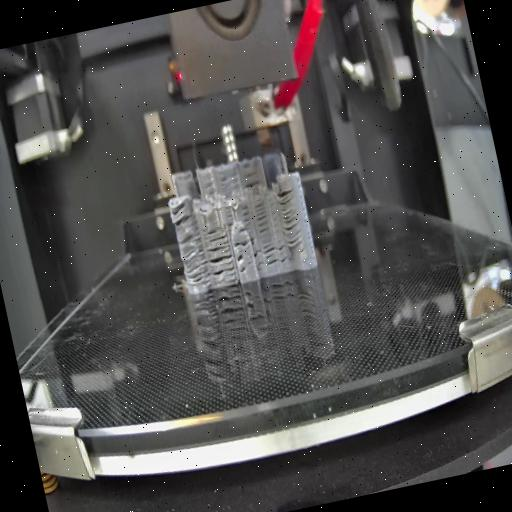cracks: (177, 230, 211, 286), (276, 188, 304, 249), (207, 246, 237, 282), (168, 201, 194, 226), (252, 201, 270, 233), (262, 242, 280, 266), (243, 169, 261, 188), (206, 228, 228, 243), (222, 205, 235, 228), (232, 236, 256, 248), (276, 243, 288, 265), (240, 205, 252, 226), (234, 252, 246, 272), (254, 250, 264, 269), (218, 175, 237, 183), (236, 225, 248, 236)
